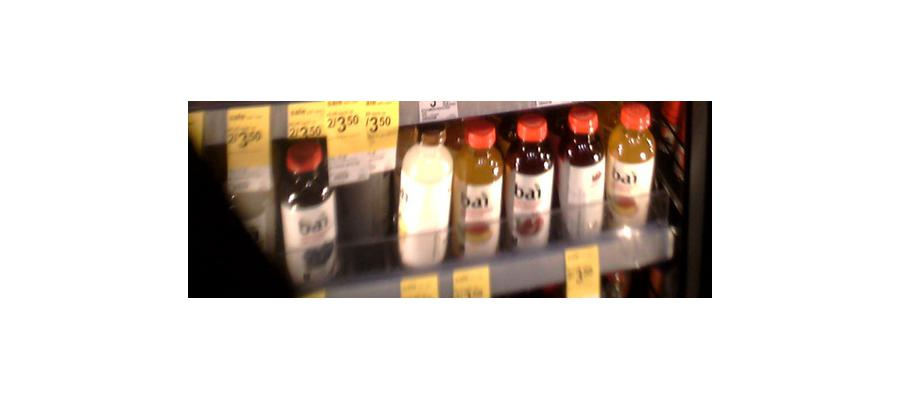bottle: (279, 126, 340, 282), (396, 119, 453, 273), (452, 120, 504, 260), (505, 115, 557, 251), (559, 108, 608, 240), (607, 108, 654, 245)
